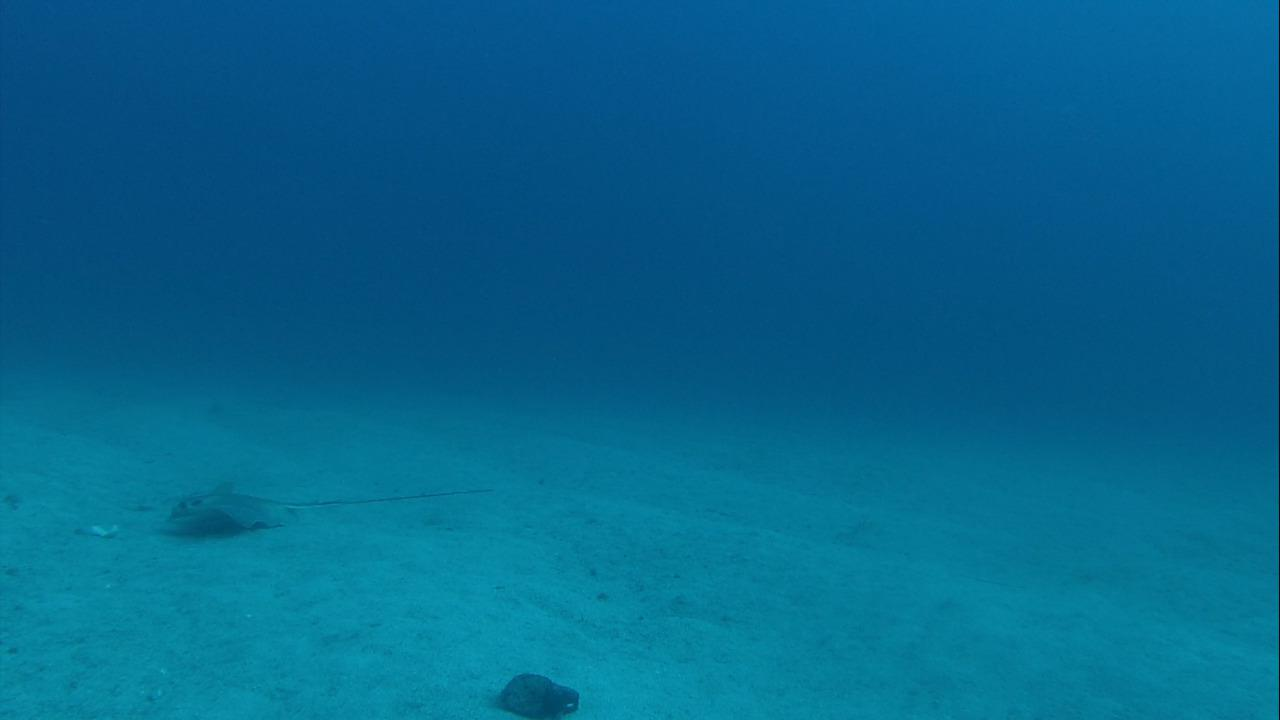myliobatis: (152, 473, 496, 528)
